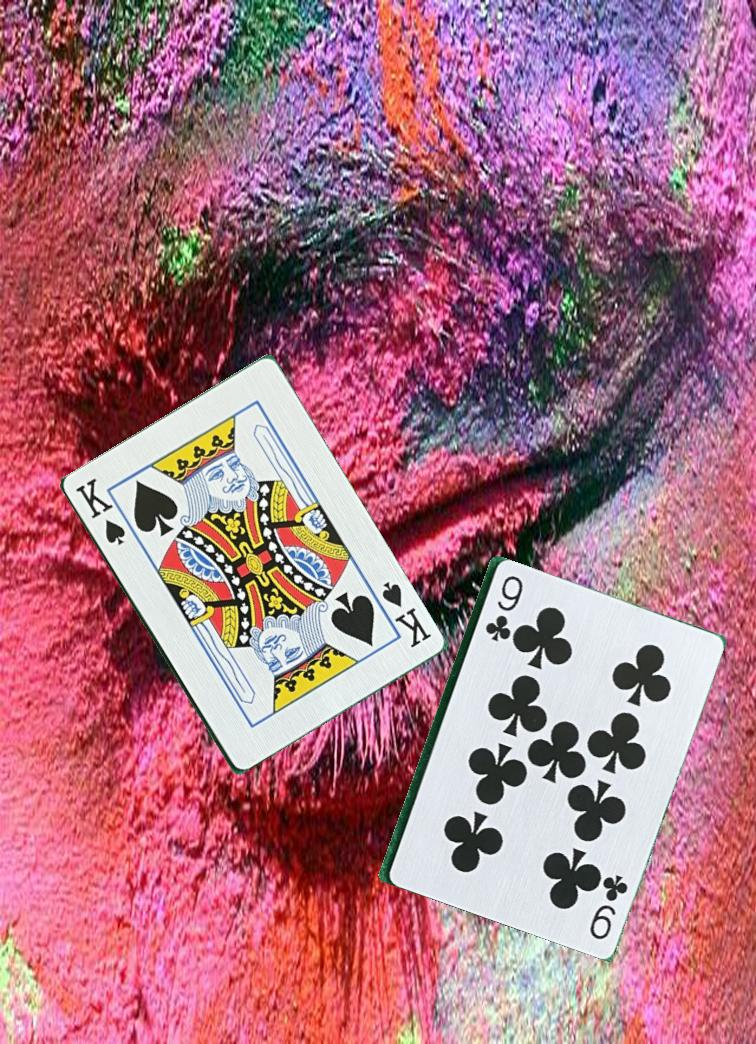9c: (585, 862, 631, 943), (481, 571, 523, 644)
ks: (377, 578, 433, 659), (71, 474, 128, 548)
